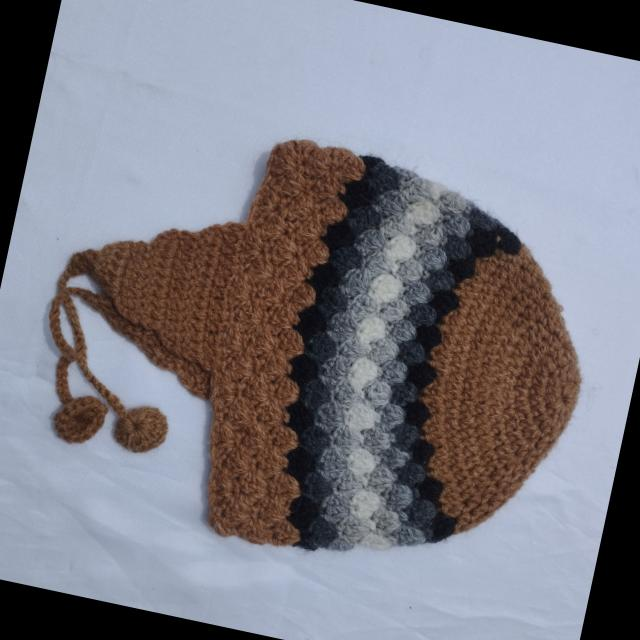Gorro: (8, 91, 620, 604)
